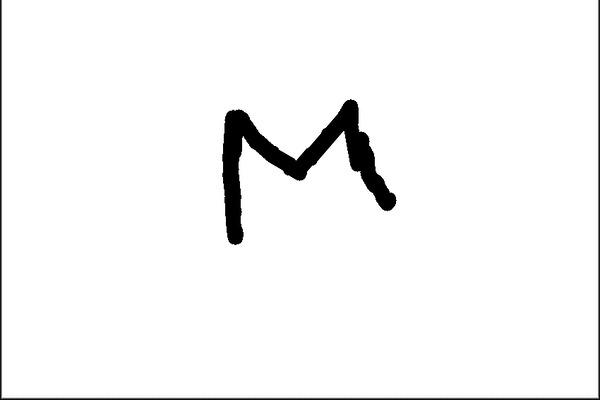M: (217, 97, 399, 248)
